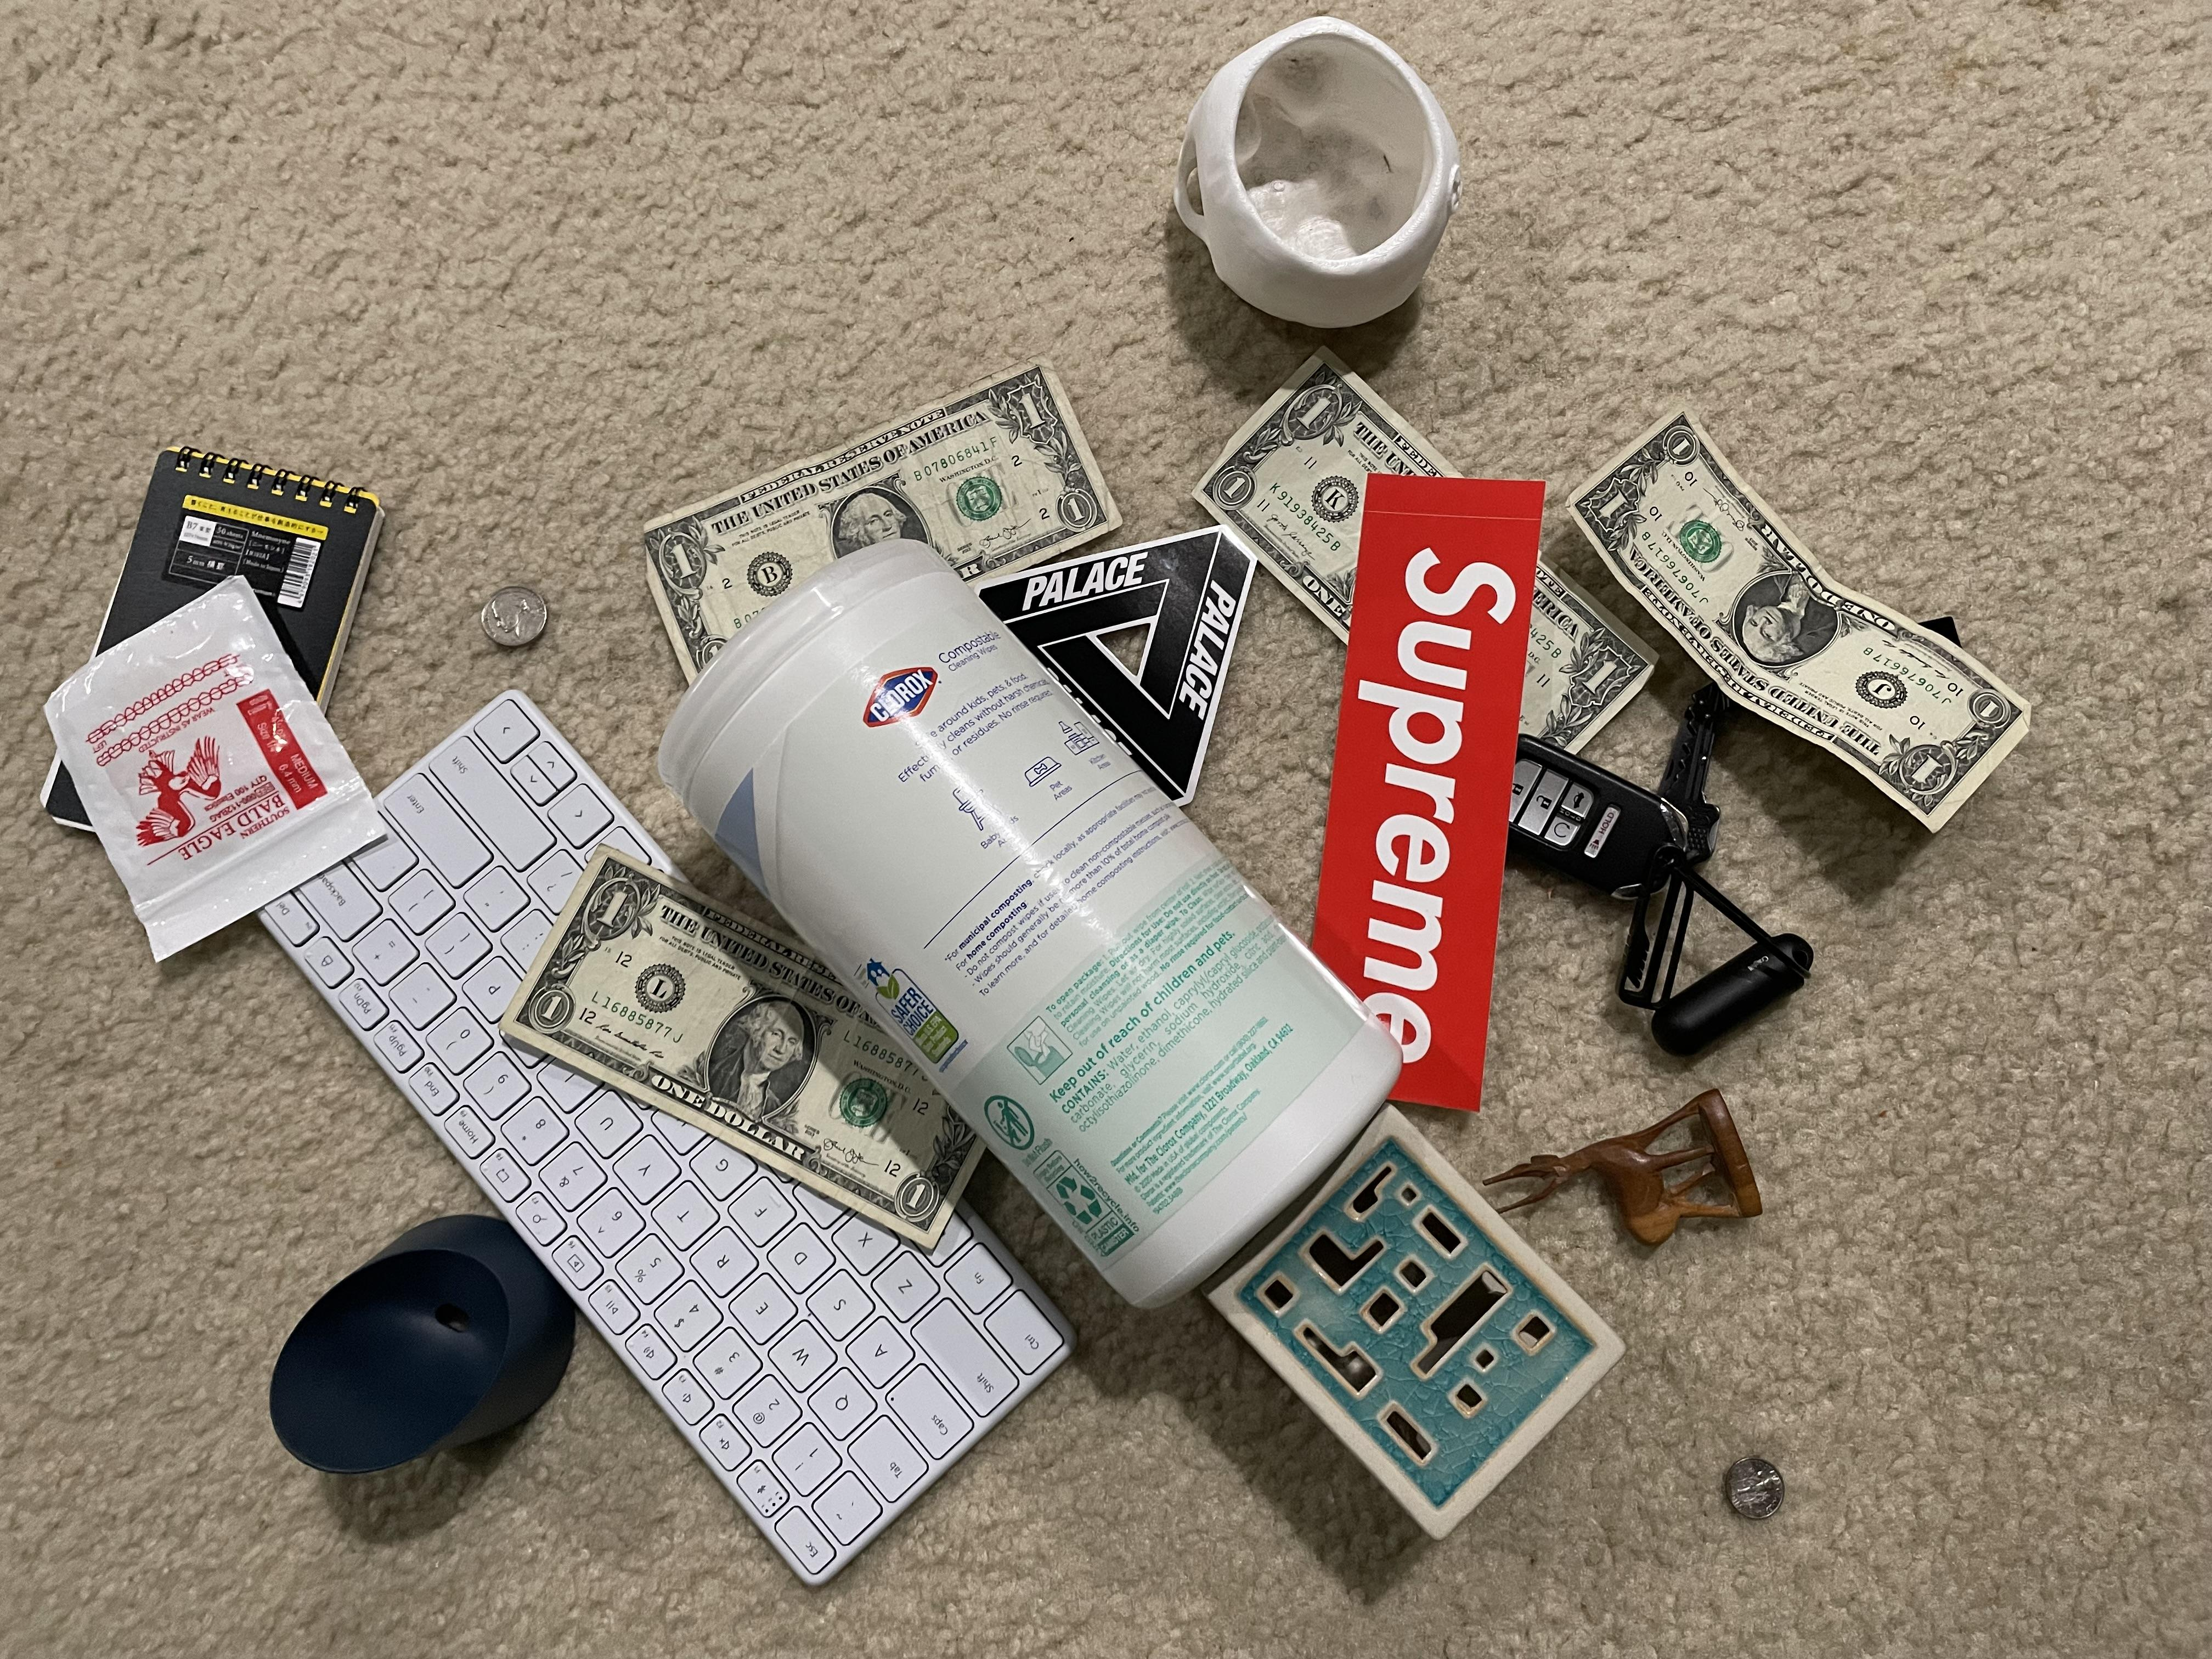Dime: (1723, 1455, 1791, 1530)
Nickel: (472, 579, 556, 659)
OneBill: (495, 845, 1015, 1251), (1568, 406, 2038, 840), (1197, 347, 1663, 760), (632, 354, 1122, 673)
